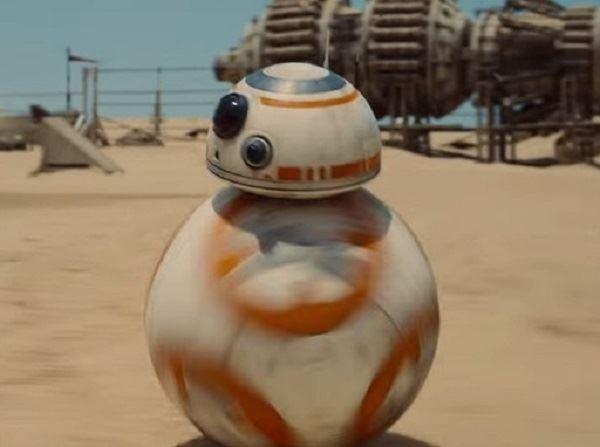bb8: (144, 63, 440, 447)
